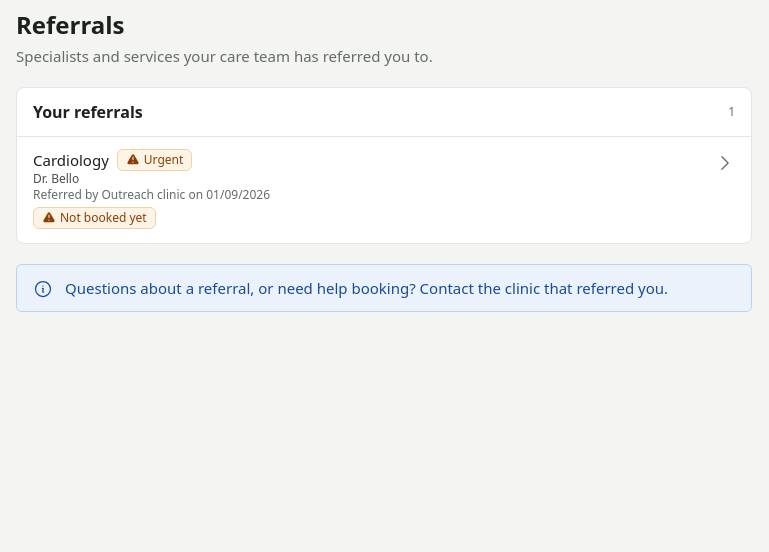
Test: Referrals › asks only for the columns it shows and lists the referral
Expected: the text "Dr. Bello" is shown, [33, 170, 79, 187]
Expected: the text "Urgent" is shown, [117, 149, 192, 171]
What coordinates should you click on to do the following:
click the text "Cardiology"
I would click on:
 (71, 160)
Its box is [33, 149, 109, 171].
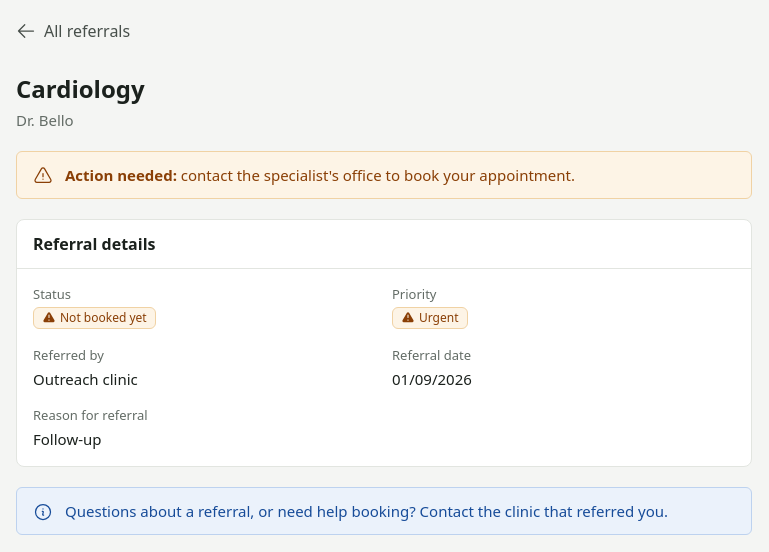
Expected: the heading "Referral details" is shown, [33, 232, 156, 256]
Expected: the text "Action needed:" is shown, [65, 165, 177, 185]
